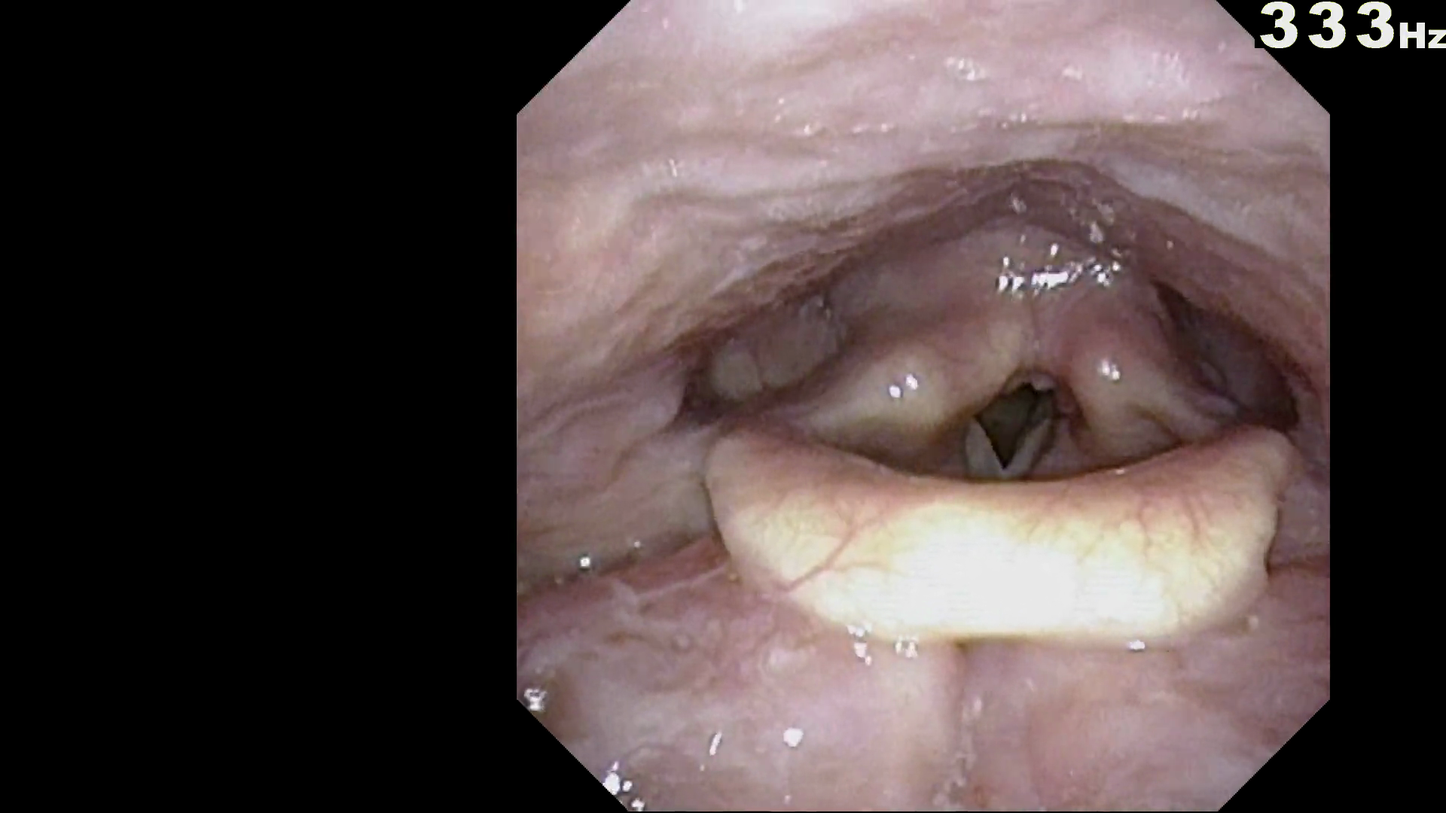epiglottis: (692, 402, 1305, 662)
trachea: (931, 341, 1096, 530)
